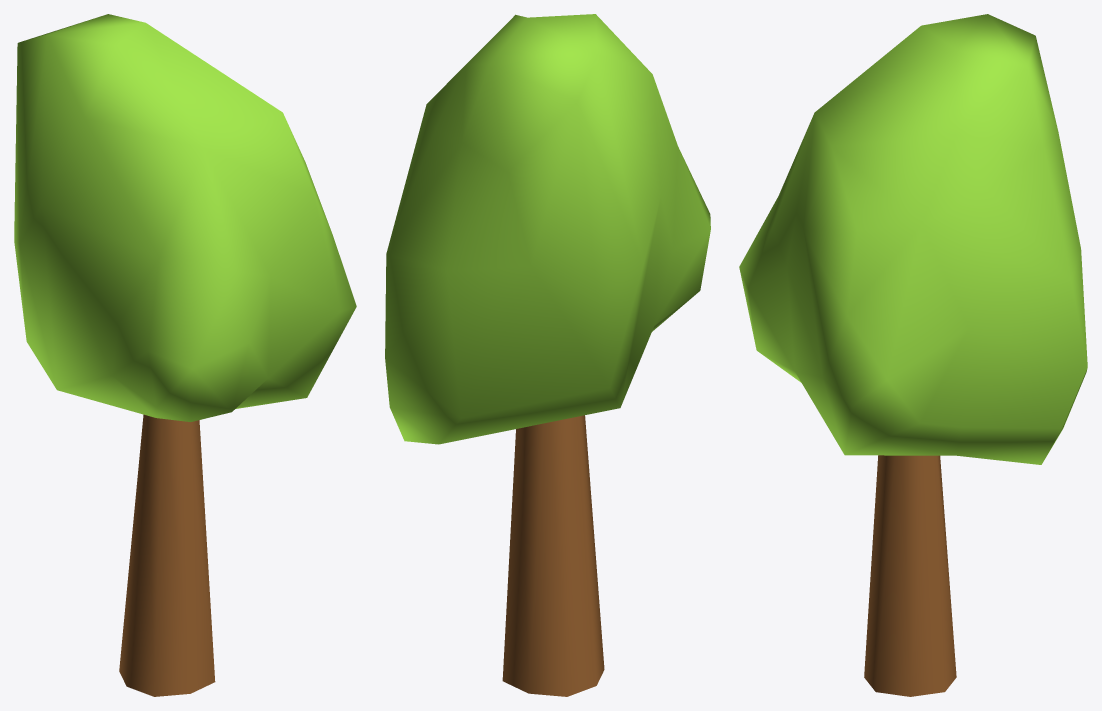
The model's file is SM_tree_2.fbx.
3 renders of one model, left to right at view 1: azimuth 30°, elevation 25°; view 2: azimuth 150°, elevation 25°; view 3: azimuth 270°, elevation 25°, orthographic. The views are drawn at different scales.
Parts seen in each view (by area): view 1: SM_tree_2_LOD0; view 2: SM_tree_2_LOD0; view 3: SM_tree_2_LOD0.
Part boxes in pixels (x1,y1,x2,y2): SM_tree_2_LOD0: [14, 14, 356, 696]; SM_tree_2_LOD0: [385, 14, 710, 696]; SM_tree_2_LOD0: [739, 14, 1087, 696].
Size of what is drawn, in the model's own units: 425 by 939 by 471.
Materials: 1 (1 with a texture image).
